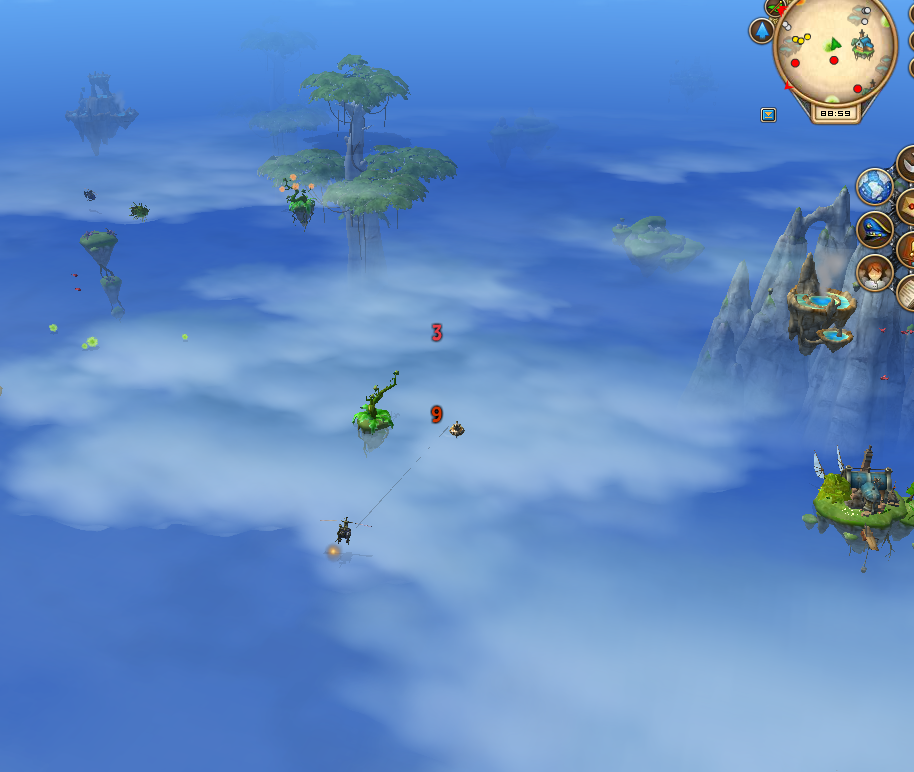dandelion-empty: (347, 364, 409, 450)
dandelion-full: (277, 169, 323, 225)
fluff: (179, 330, 191, 344), (87, 336, 99, 349), (47, 321, 59, 334), (81, 342, 89, 351)
